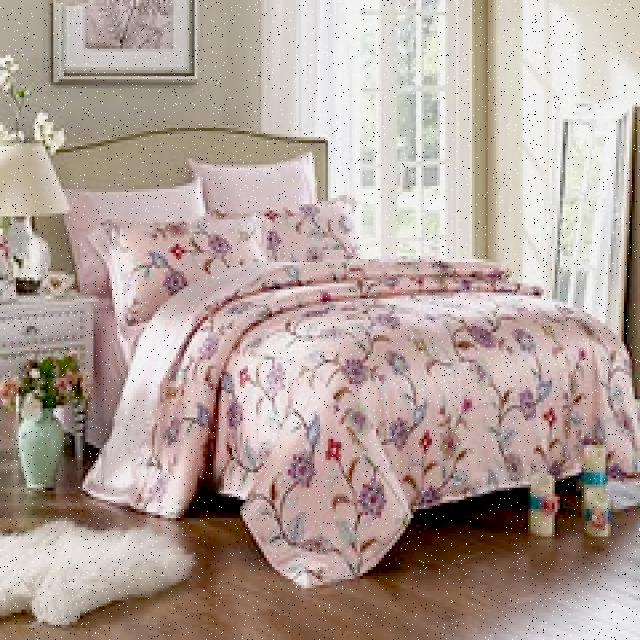bed: (48, 118, 624, 518)
